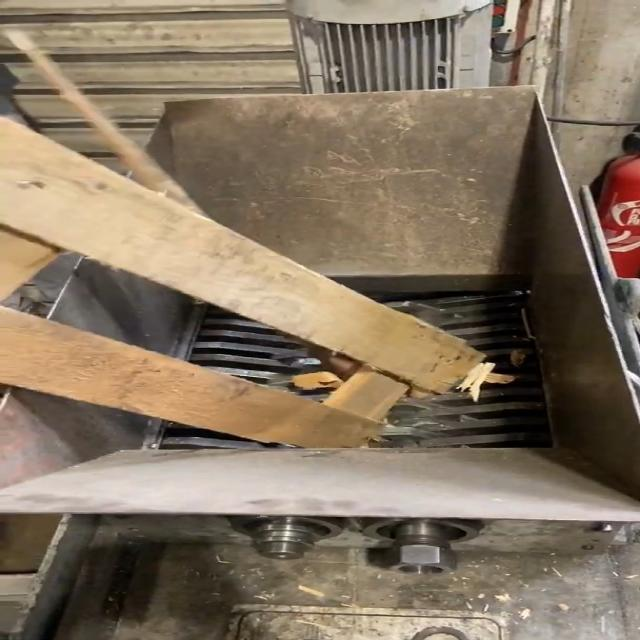Broyeur: (145, 263, 571, 482)
Palette: (0, 100, 501, 463)
